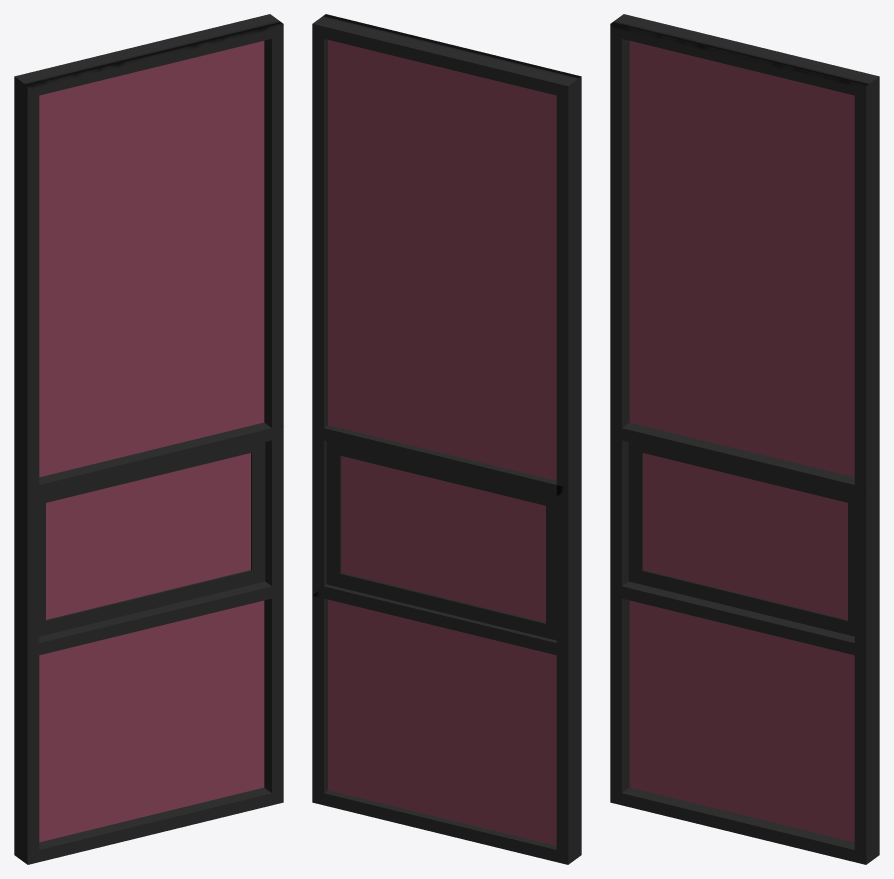
File: MCHouse-WindowB2.fbx
The picture shows the model from 3 angles, left to right: view 1: azimuth 30°, elevation 25°; view 2: azimuth 150°, elevation 25°; view 3: azimuth 330°, elevation 25°; orthographic projection.
Visible parts, largest first — view 1: MCHouse-WindowB2; view 2: MCHouse-WindowB2; view 3: MCHouse-WindowB2.
Boxes of the visible parts, x1,y1,x2,y2 form: MCHouse-WindowB2: (14, 14, 283, 864); MCHouse-WindowB2: (312, 14, 581, 864); MCHouse-WindowB2: (610, 14, 879, 864).
Size of the model in its own units: 110 by 320 by 10.
